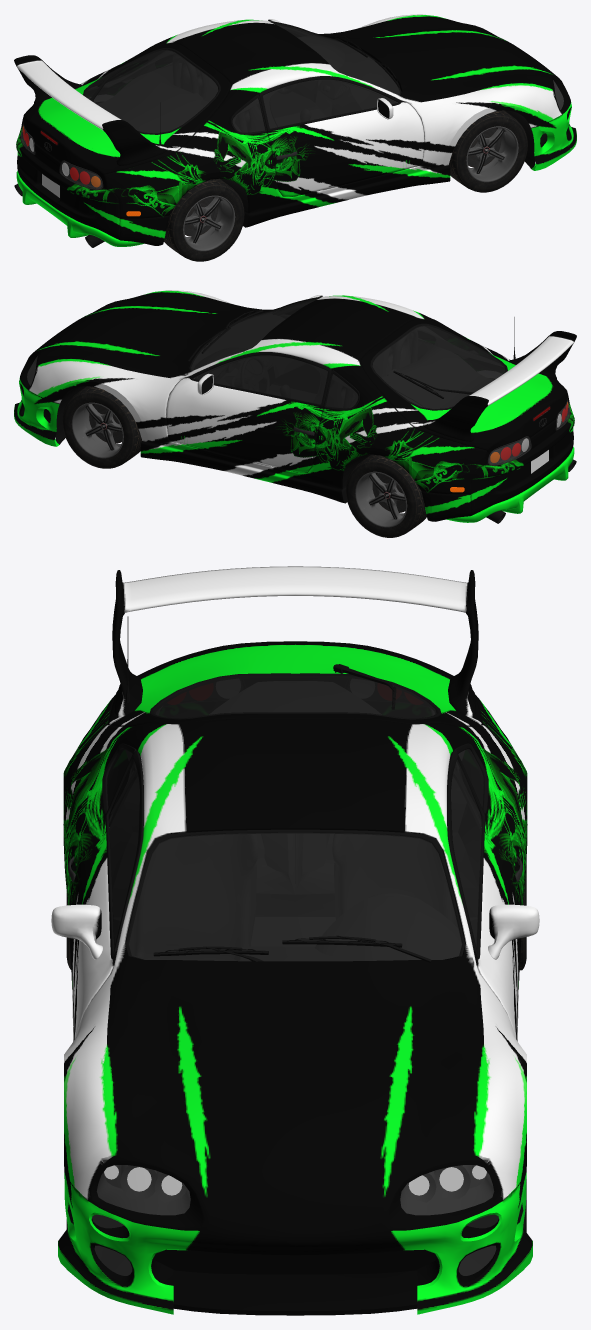
3 renders of one model, top to bottom at view 1: azimuth 30°, elevation 25°; view 2: azimuth 150°, elevation 25°; view 3: azimuth 270°, elevation 25°, orthographic. The views are drawn at different scales.
Visible parts, largest first — view 1: CarPaint, Body, W4, W2, Props, LightsMesh; view 2: CarPaint, Body, W3, W1, Props, LightsMesh; view 3: CarPaint, Body, Props.
Part boxes in pixels (<box>): CarPaint: <box>14,14,576,246</box>; Body: <box>14,20,563,247</box>; W4: <box>164,178,244,261</box>; W2: <box>449,110,527,192</box>; Props: <box>40,35,399,197</box>; LightsMesh: <box>22,126,100,187</box>; CarPaint: <box>14,290,576,522</box>; Body: <box>27,296,576,523</box>; W3: <box>345,454,426,537</box>; W1: <box>62,386,141,468</box>; Props: <box>188,310,550,473</box>; LightsMesh: <box>490,402,568,462</box>; CarPaint: <box>51,566,539,1315</box>; Body: <box>67,673,523,1275</box>; Props: <box>126,616,431,962</box>.
Size of the model in its own units: 466 by 138 by 194.
10 materials, 3 textured.
